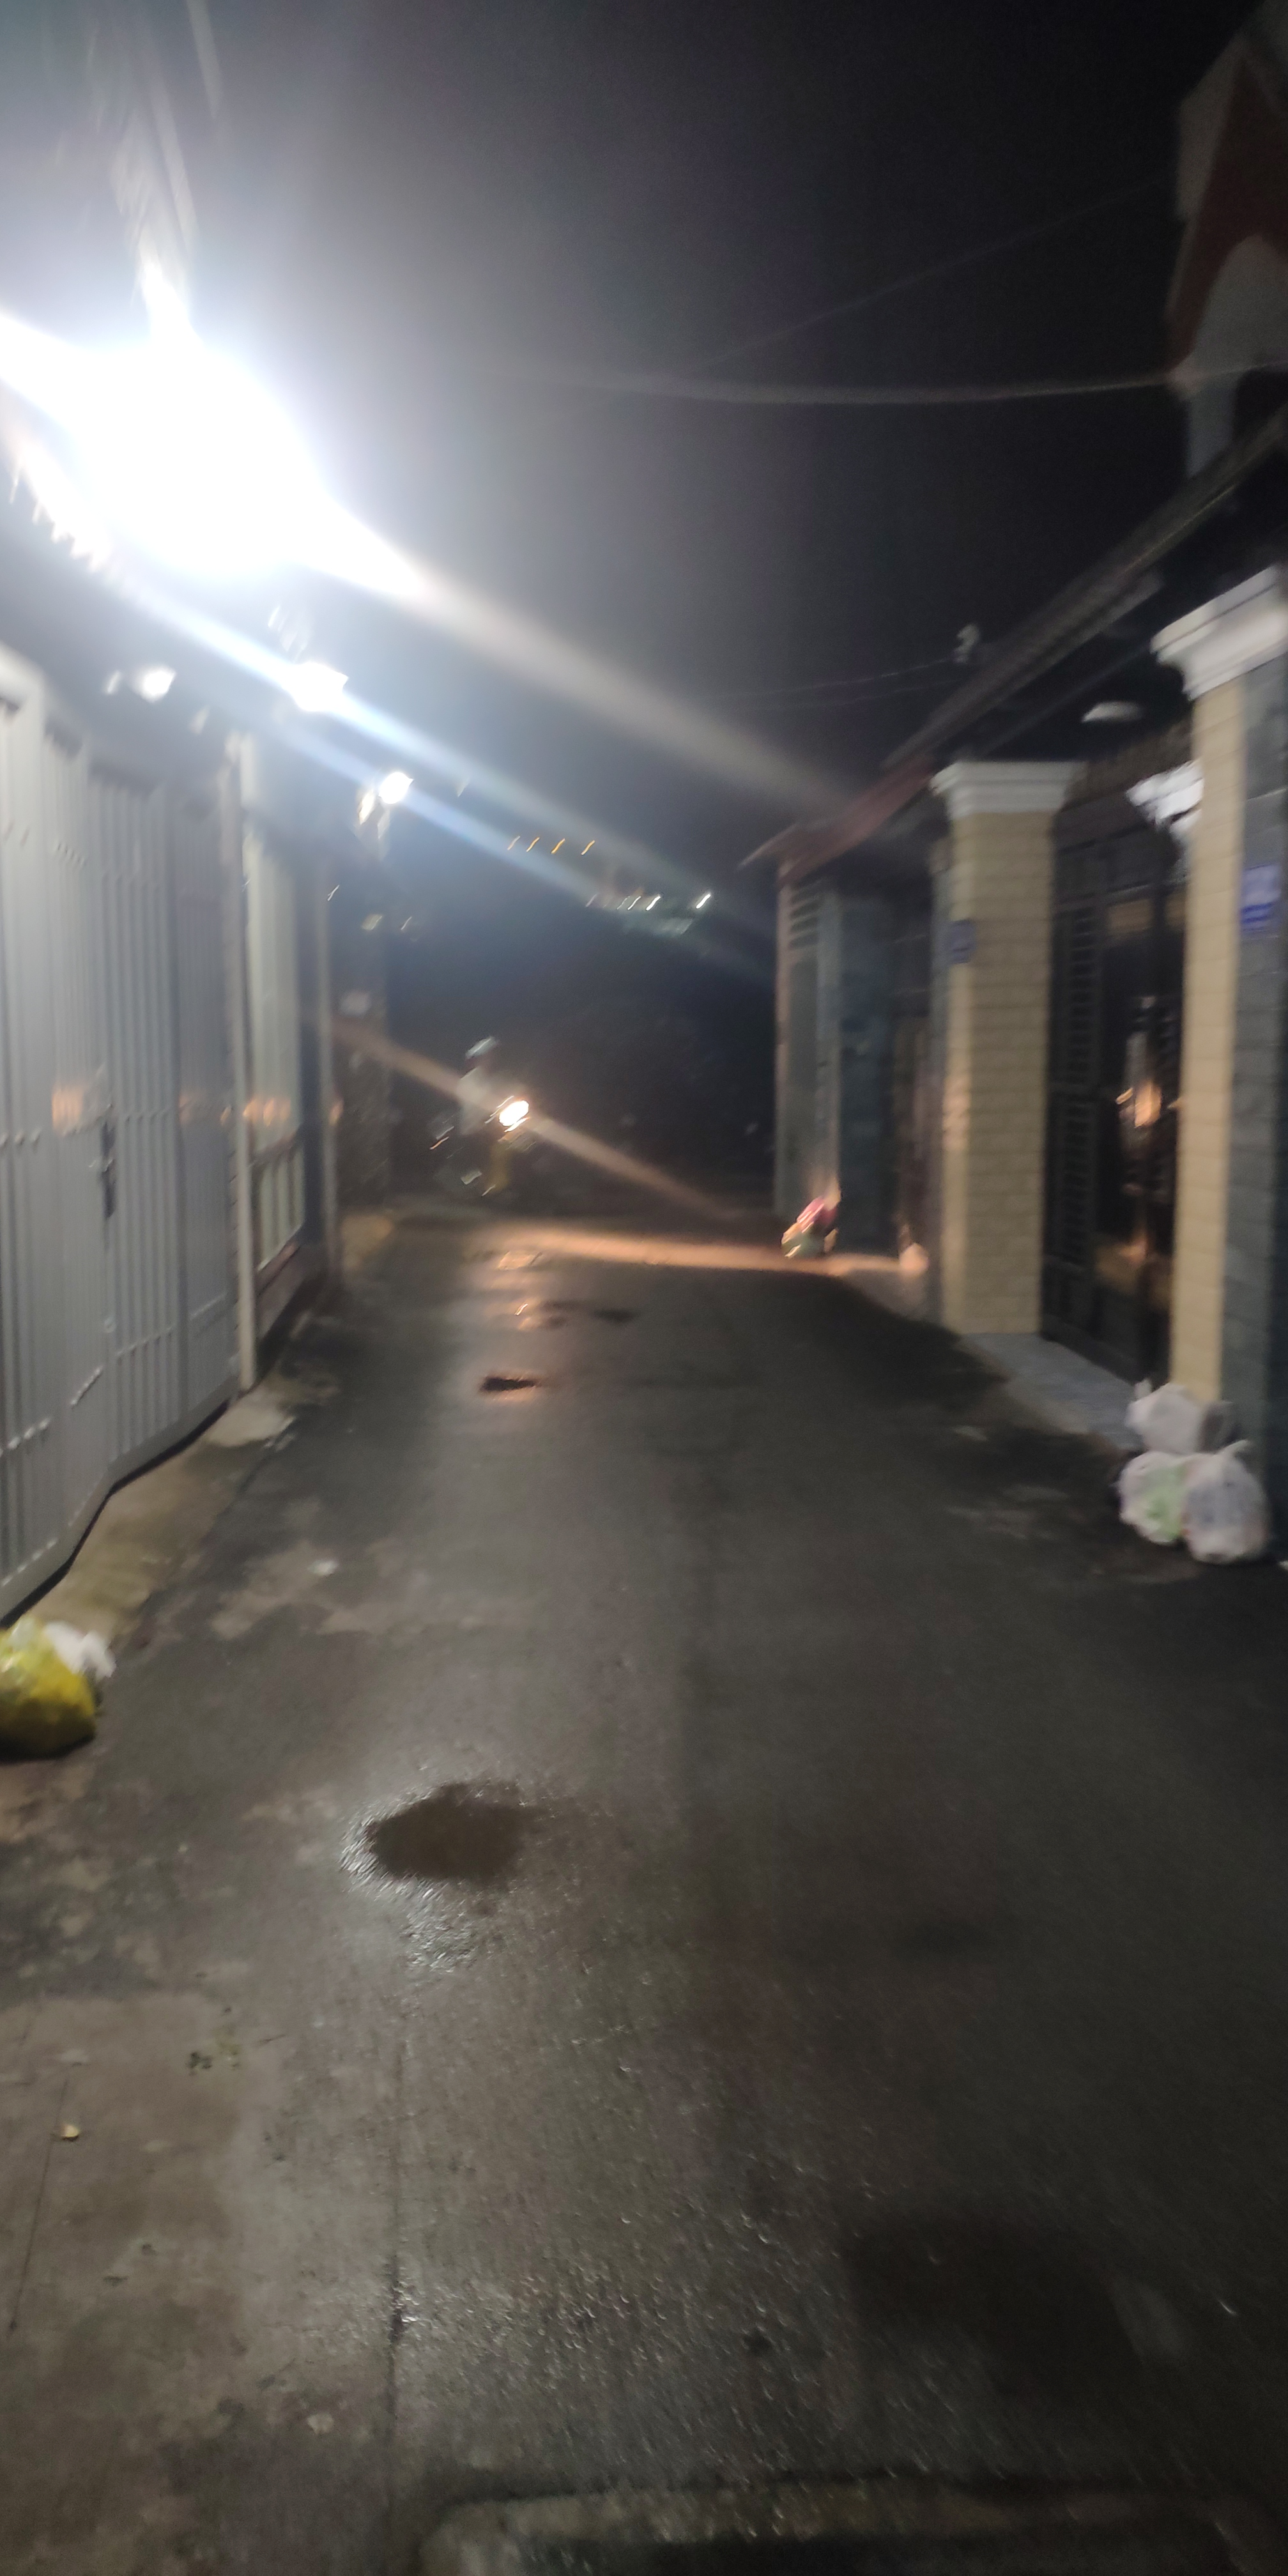hole: (805, 2195, 1245, 2399), (347, 1759, 565, 1950), (470, 1370, 549, 1398), (593, 1304, 647, 1327)
